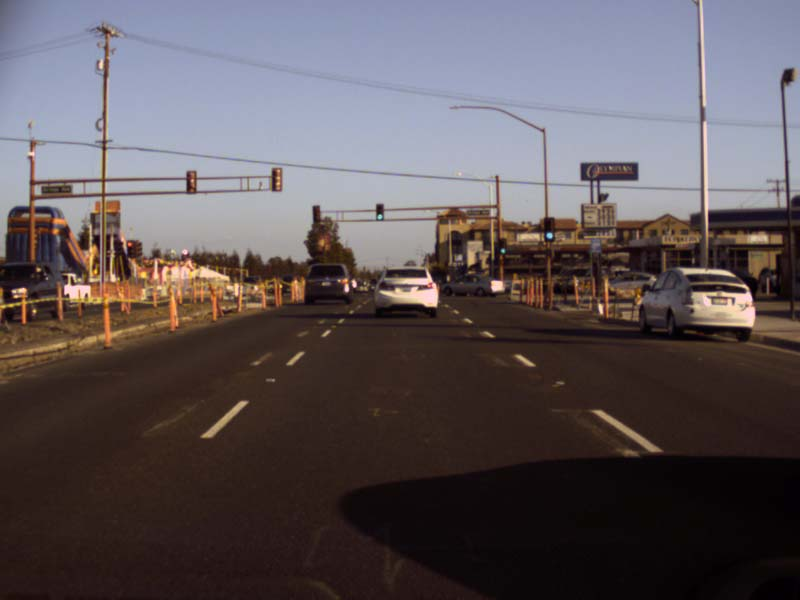Green: (544, 217, 553, 240), (375, 203, 384, 220), (498, 238, 506, 254)
